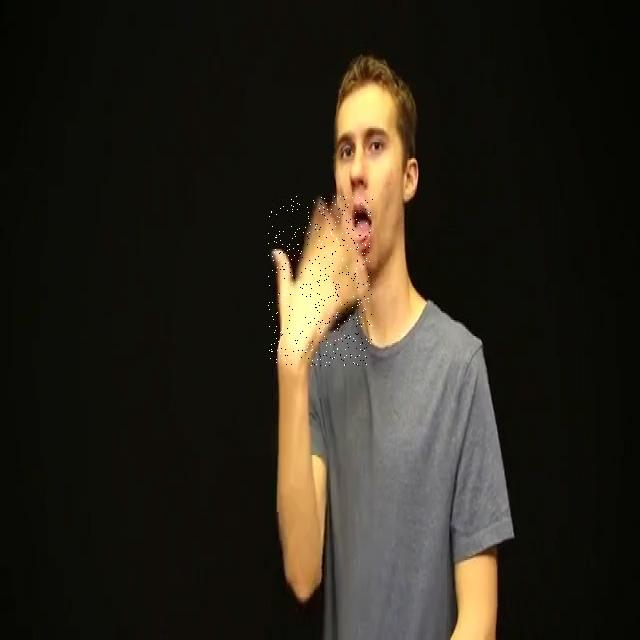spicy: (268, 196, 373, 366)
